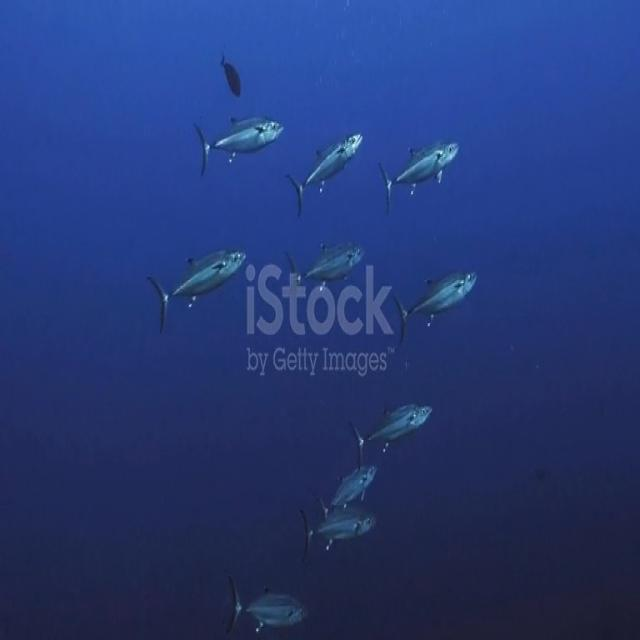fish: (392, 249, 494, 343), (146, 239, 256, 322), (348, 386, 435, 466), (375, 135, 464, 209), (290, 131, 367, 216), (223, 570, 311, 640), (296, 496, 385, 563), (288, 234, 367, 304), (306, 448, 384, 516), (196, 111, 284, 168), (219, 43, 245, 106)
